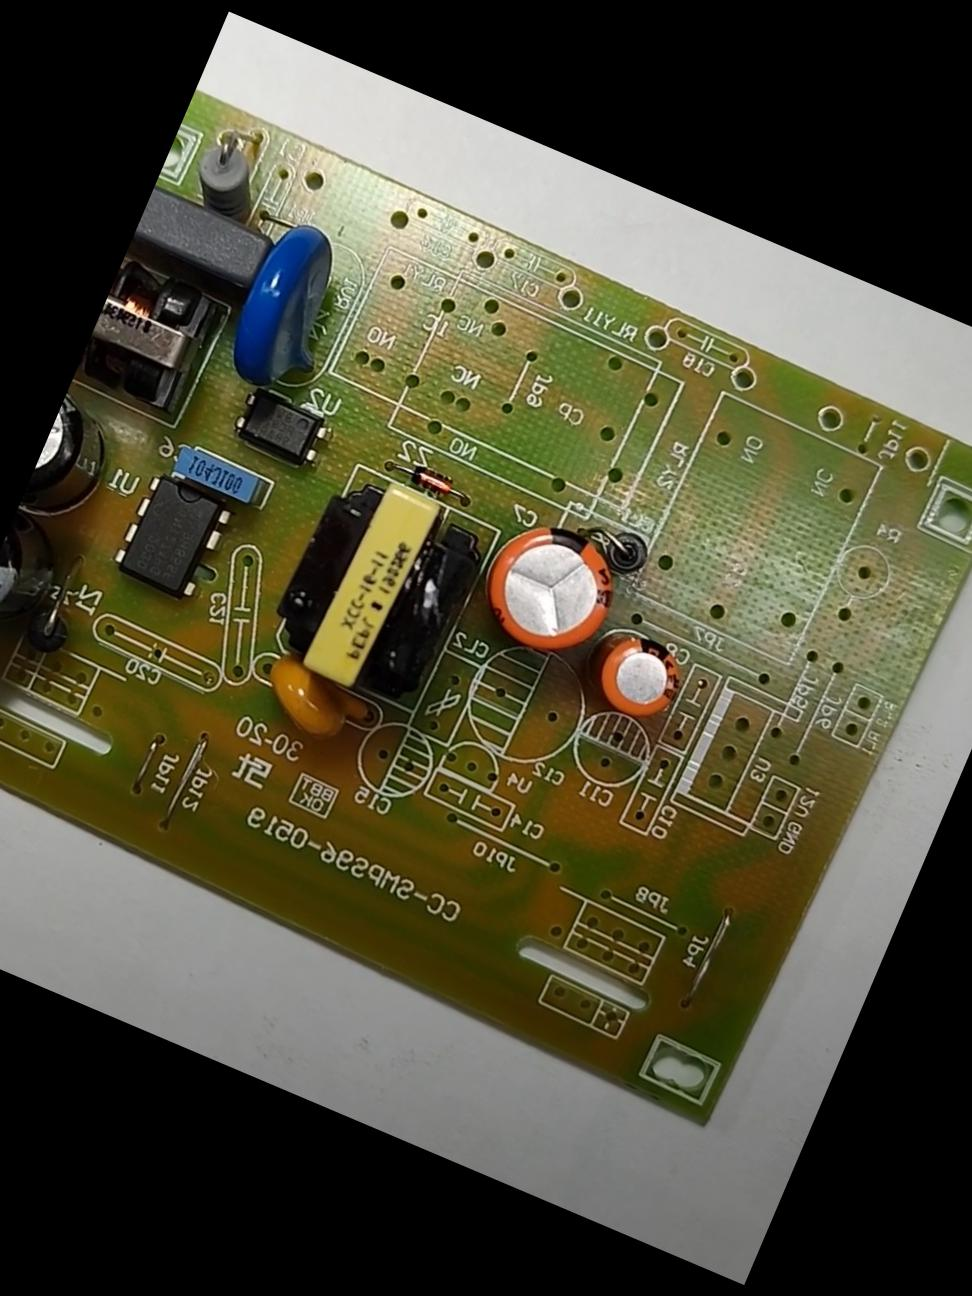Cap1: (466, 503, 634, 675)
Cap2: (584, 625, 693, 730)
Cap3: (17, 385, 127, 532)
Cap4: (0, 514, 74, 655)
MOSFET: (110, 469, 241, 604)
Mov: (203, 205, 371, 409)
Resistor: (180, 128, 284, 223)
Transformer: (254, 458, 490, 716), (75, 250, 230, 417)
